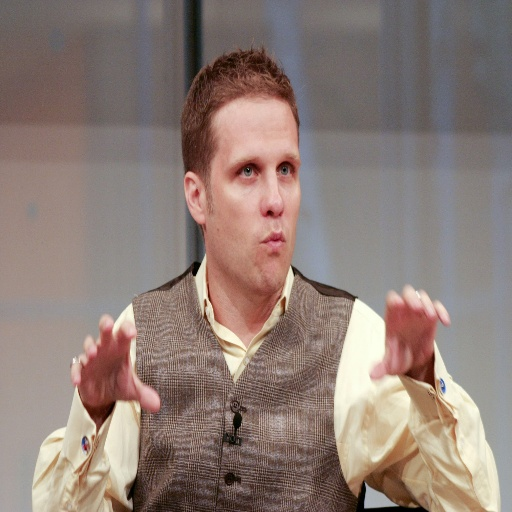hand: (68, 311, 162, 415), (385, 284, 460, 394)
